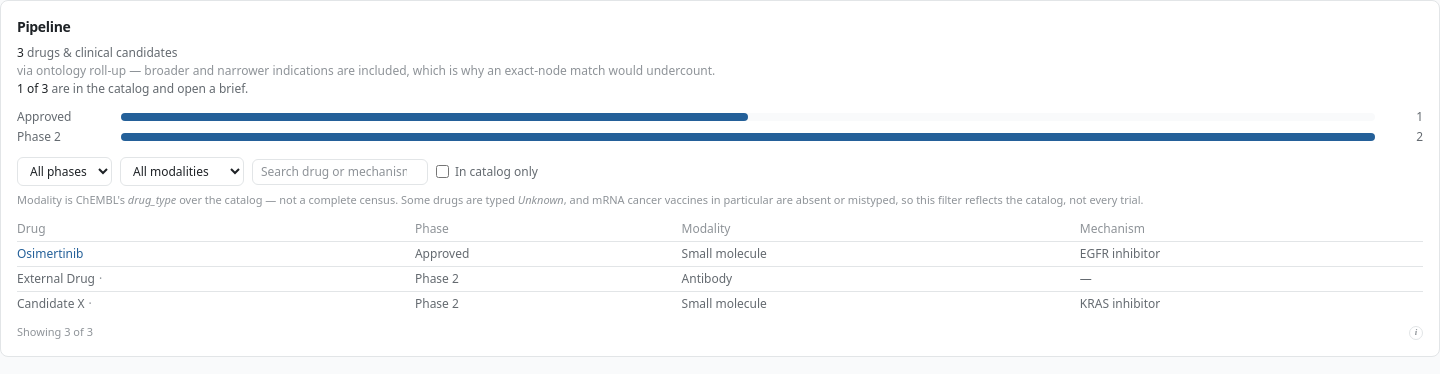
PipelineCard › the "in catalog only" filter shows only drugs with a brief
Click the checkbox with test id "pipeline-filter-catalog" at (442, 172), box [436, 165, 449, 178]
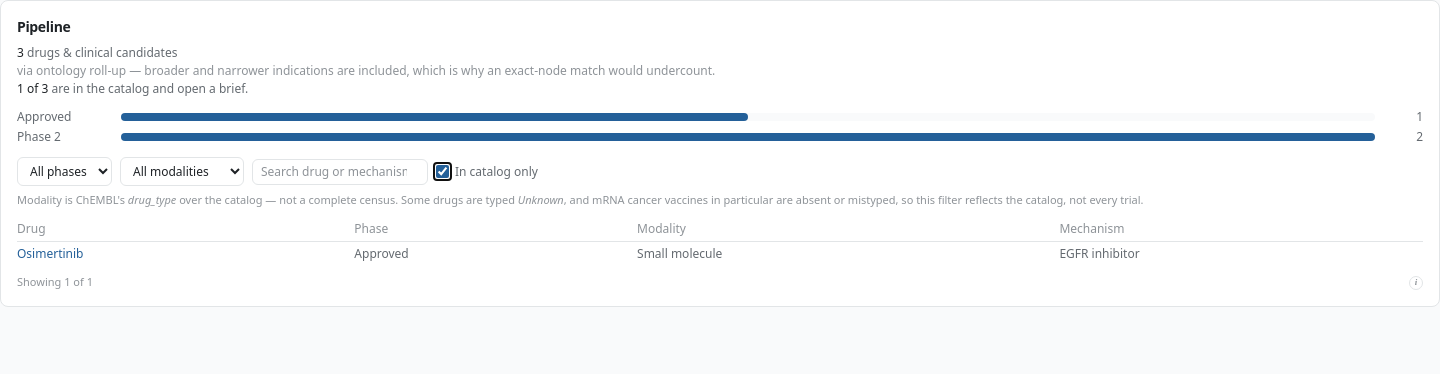
Expected: the link "Osimertinib" is shown, [17, 244, 84, 262]
Now the number of rows with test id "pipeline-row" is 1, box [17, 241, 1423, 266]
